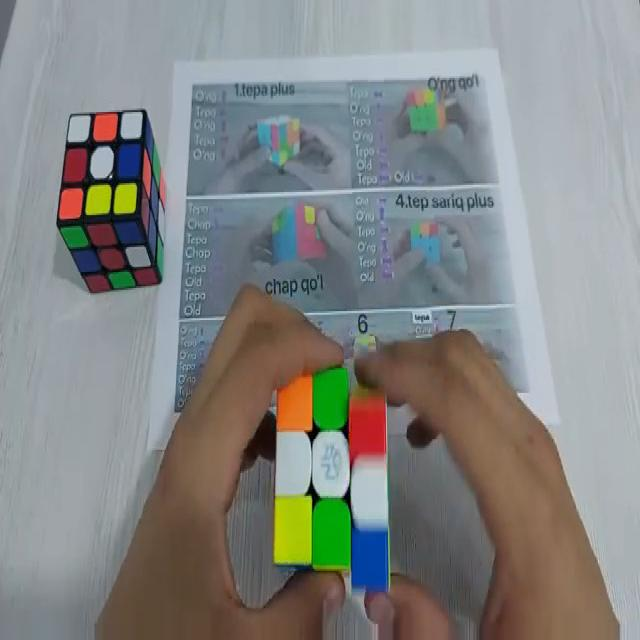Rub: (274, 360, 394, 596), (58, 110, 167, 291)
